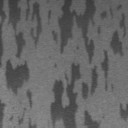red iron: (48, 0, 122, 128), (0, 0, 42, 96), (8, 89, 36, 128), (110, 13, 128, 56), (84, 110, 99, 128), (0, 98, 6, 128), (120, 104, 128, 121), (48, 10, 51, 19)
